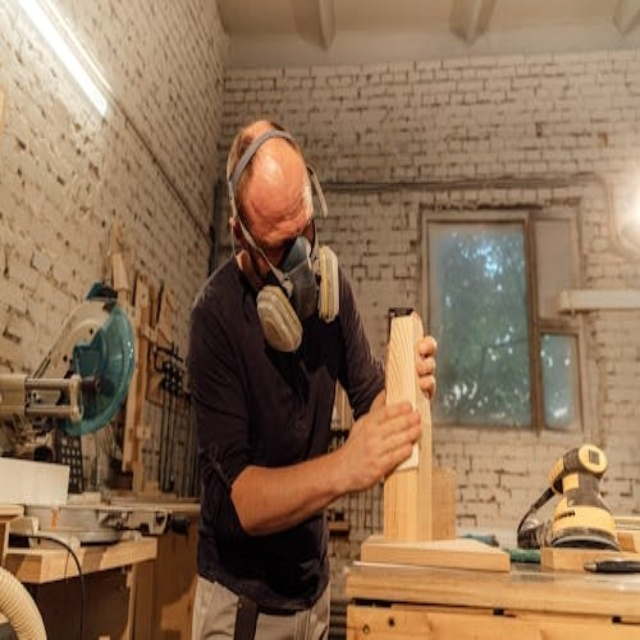Mascara: (247, 231, 346, 361)
Sin_gafas: (256, 206, 317, 259)
Sin_guantes: (354, 396, 423, 489), (416, 329, 440, 402)
